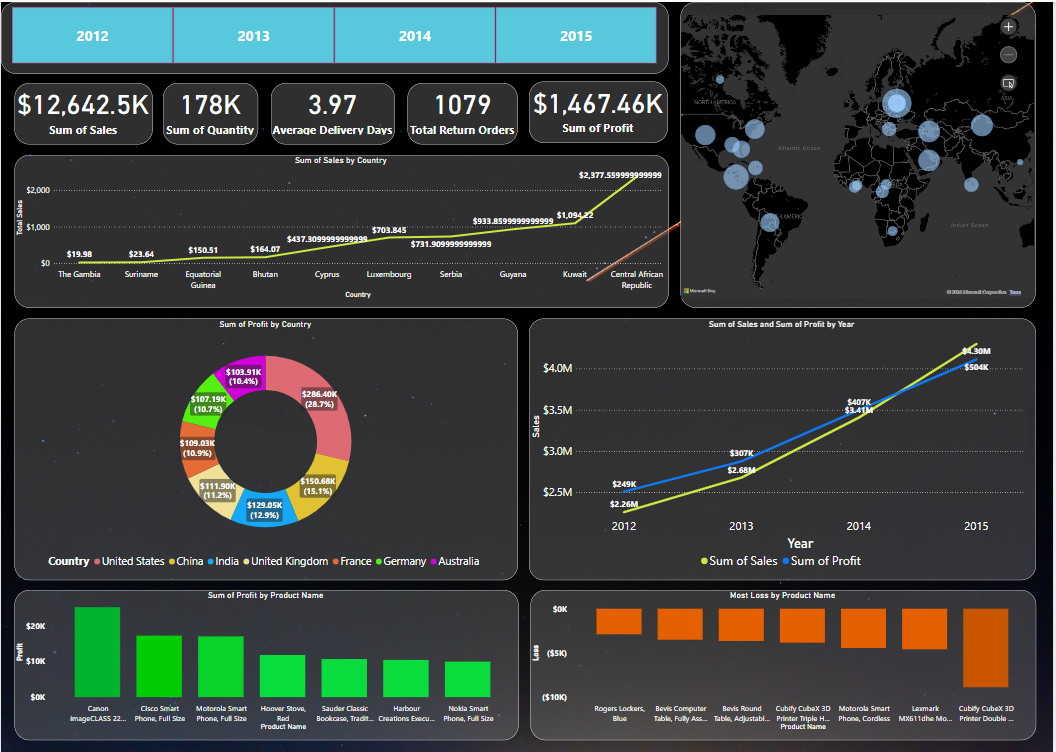

This screenshot's page, from the dashboard's own definition file:
{"tool":"powerbi","page":{"name":"Page 1","canvas":[2100,1500],"ordinal":0},"visuals":[{"type":"card","fields":{"Values":["Sum(Orders.Quantity)"]},"box":[325,162.9,190,122.9],"z":0},{"type":"card","fields":{"Values":["Avg(Orders.Delivery Days)"]},"box":[540,162.9,247.1,122.9],"z":1000},{"type":"card","fields":{"Values":["Sum(Orders.Profit)"]},"box":[1055,160,277.5,122.5],"z":2000},{"type":"card","fields":{"Values":["Sum(Orders.Sales)"]},"box":[27,162.9,275.7,122.9],"z":3000},{"type":"slicer","fields":{"Values":["Orders.Year"]},"box":[0,0,1333.3,143.3],"z":4000},{"type":"card","fields":{"Values":["Sum(Returns.Return Orders)"]},"box":[812,163,220,122.5],"z":5000},{"type":"map","fields":{"Category":["Orders.Region"],"Size":["Sum(Orders.Sales)"]},"box":[1356.3,0,709.6,610.8],"z":6000},{"type":"columnChart","fields":{"Category":["Orders.Product Name"],"Y":["Sum(Orders.Profit)"]},"box":[26.7,1173.3,1006.7,300],"z":7000},{"type":"columnChart","title":"Most Loss by Product Name","fields":{"Y":["Sum(Orders.Profit)"],"Category":["Orders.Product Name"]},"box":[1056.7,1173.3,1010,300],"z":8000},{"type":"donutChart","fields":{"Category":["Orders.Country"],"Y":["Sum(Orders.Profit)"]},"box":[27.5,632.5,1005,522.5],"z":9000},{"type":"lineChart","fields":{"Y":["Sum(Orders.Sales)"],"Category":["Orders.Year"],"Y2":["Sum(Orders.Profit)"]},"box":[1055,632.5,1012.5,522.5],"z":10000},{"type":"lineChart","fields":{"Category":["Orders.Country"],"Y":["Sum(Orders.Sales)"]},"box":[26.7,305,1306.7,305],"z":11000}]}

Visuals, with their boxes in screenshot pixels (x1, y1, x2, y2), scaled from the page's 2100x1500 canvas onto the 1056x752 screenshot:
card - Sum(Orders.Quantity): select_region(163, 82, 259, 143)
card - Avg(Orders.Delivery Days): select_region(272, 82, 396, 143)
card - Sum(Orders.Profit): select_region(531, 80, 670, 142)
card - Sum(Orders.Sales): select_region(14, 82, 152, 143)
slicer - Orders.Year: select_region(0, 0, 670, 72)
card - Sum(Returns.Return Orders): select_region(408, 82, 519, 143)
map - Orders.Region x Sum(Orders.Sales): select_region(682, 0, 1039, 306)
columnChart - Orders.Product Name x Sum(Orders.Profit): select_region(13, 588, 520, 739)
"Most Loss by Product Name" columnChart: select_region(531, 588, 1039, 739)
donutChart - Orders.Country x Sum(Orders.Profit): select_region(14, 317, 519, 579)
lineChart - Sum(Orders.Sales) x Orders.Year: select_region(531, 317, 1040, 579)
lineChart - Orders.Country x Sum(Orders.Sales): select_region(13, 153, 671, 306)
